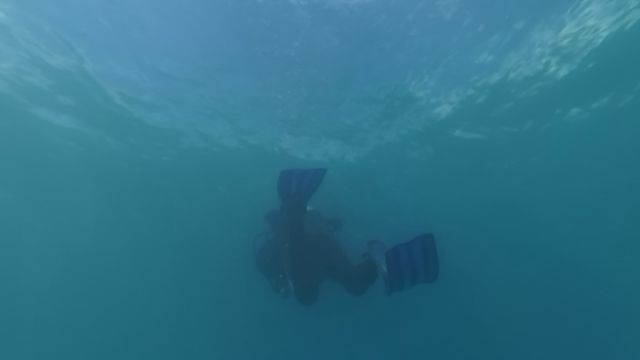Diver: (239, 167, 451, 313)
